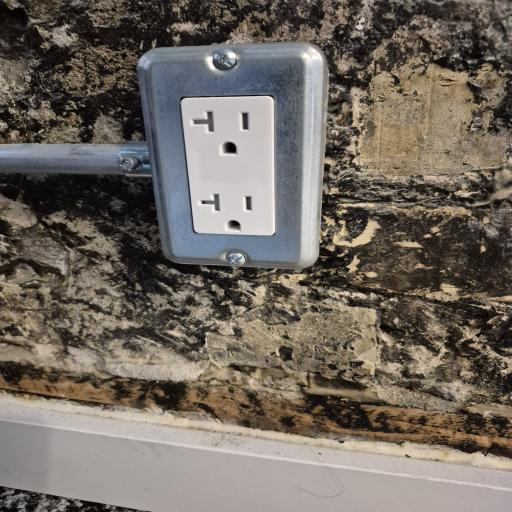outlet: (133, 53, 326, 270)
